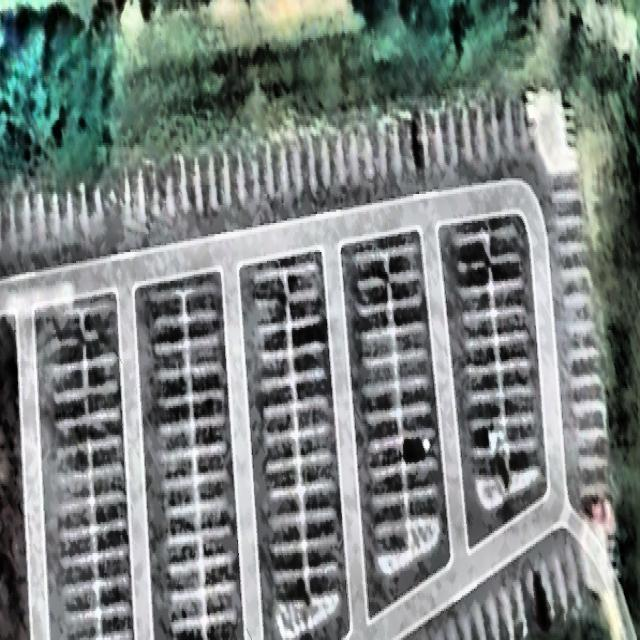Empty: (308, 138, 330, 191), (451, 108, 470, 164), (48, 312, 82, 343), (165, 512, 199, 543), (322, 139, 344, 186), (50, 366, 86, 394), (11, 186, 29, 242), (366, 132, 386, 182), (294, 146, 315, 192), (101, 610, 133, 640), (374, 498, 404, 530), (152, 317, 185, 346), (199, 156, 216, 212), (424, 111, 441, 167), (64, 613, 99, 640), (268, 146, 286, 198), (466, 103, 483, 158), (352, 134, 371, 183), (195, 419, 225, 450), (97, 554, 129, 583), (571, 378, 603, 407), (47, 343, 84, 368), (65, 586, 98, 614), (163, 484, 196, 512), (481, 101, 497, 158), (55, 423, 90, 449), (166, 541, 201, 567), (381, 119, 398, 172), (162, 426, 192, 456), (90, 416, 121, 445), (174, 594, 203, 625), (361, 332, 393, 360), (127, 166, 143, 222), (273, 576, 306, 603), (60, 505, 94, 531), (191, 373, 225, 399), (366, 416, 400, 442), (239, 155, 258, 201), (256, 275, 286, 304), (396, 115, 411, 173), (155, 345, 186, 373), (61, 532, 93, 559), (84, 334, 116, 361), (150, 295, 186, 319), (364, 388, 396, 415), (456, 236, 488, 263), (494, 102, 510, 156), (58, 475, 91, 501), (185, 289, 218, 315), (438, 114, 455, 164), (88, 388, 118, 416), (159, 376, 189, 404), (468, 371, 499, 398), (577, 437, 608, 464), (190, 346, 222, 372), (225, 158, 243, 204), (52, 396, 85, 421), (254, 151, 271, 199), (282, 144, 299, 192), (569, 328, 597, 357), (197, 478, 227, 505), (575, 409, 605, 436), (64, 560, 95, 586), (302, 489, 333, 515), (466, 344, 497, 370), (194, 452, 227, 476), (562, 274, 590, 302), (206, 613, 235, 640), (496, 312, 525, 339), (98, 528, 128, 554), (306, 542, 336, 568), (374, 472, 404, 498), (497, 341, 527, 367), (501, 395, 531, 421), (354, 257, 386, 281), (95, 443, 123, 470), (490, 232, 517, 260), (570, 352, 597, 380), (566, 298, 593, 326), (93, 476, 122, 502), (188, 317, 217, 343), (462, 290, 491, 316), (500, 366, 529, 392), (199, 507, 229, 532), (266, 440, 296, 465), (408, 495, 438, 520), (211, 164, 228, 208), (258, 329, 289, 353), (271, 523, 302, 547), (58, 451, 90, 474), (192, 400, 224, 423), (363, 363, 395, 386), (468, 399, 500, 422), (340, 138, 356, 184), (294, 350, 322, 376), (559, 248, 587, 274), (185, 156, 199, 208), (202, 536, 232, 560), (287, 270, 317, 294), (356, 283, 386, 307), (460, 266, 490, 290), (267, 470, 298, 493), (256, 306, 288, 328), (555, 195, 581, 222), (266, 414, 294, 439), (406, 466, 434, 491), (465, 318, 493, 343), (493, 287, 521, 312), (96, 503, 125, 527), (372, 444, 402, 467), (169, 164, 184, 210), (359, 311, 390, 333), (295, 378, 321, 404), (87, 363, 114, 388), (505, 419, 532, 444), (206, 590, 234, 614), (262, 356, 290, 380), (272, 553, 304, 574), (300, 434, 328, 458), (388, 252, 416, 276), (398, 356, 422, 384), (264, 386, 293, 409), (301, 461, 330, 484), (269, 496, 300, 517), (289, 299, 320, 320), (298, 405, 324, 430), (174, 571, 202, 594), (492, 262, 520, 285), (163, 460, 195, 480), (305, 516, 334, 538), (0, 192, 12, 245), (161, 407, 194, 426), (204, 565, 232, 587), (310, 573, 338, 595), (510, 446, 538, 468), (41, 200, 58, 236), (392, 279, 418, 302), (396, 330, 422, 353), (400, 388, 426, 411), (402, 412, 430, 433), (558, 224, 583, 247), (511, 104, 524, 148), (392, 306, 420, 326), (100, 585, 126, 606), (291, 325, 320, 343), (68, 197, 82, 231), (146, 167, 154, 223), (174, 626, 203, 640), (440, 629, 453, 640)
